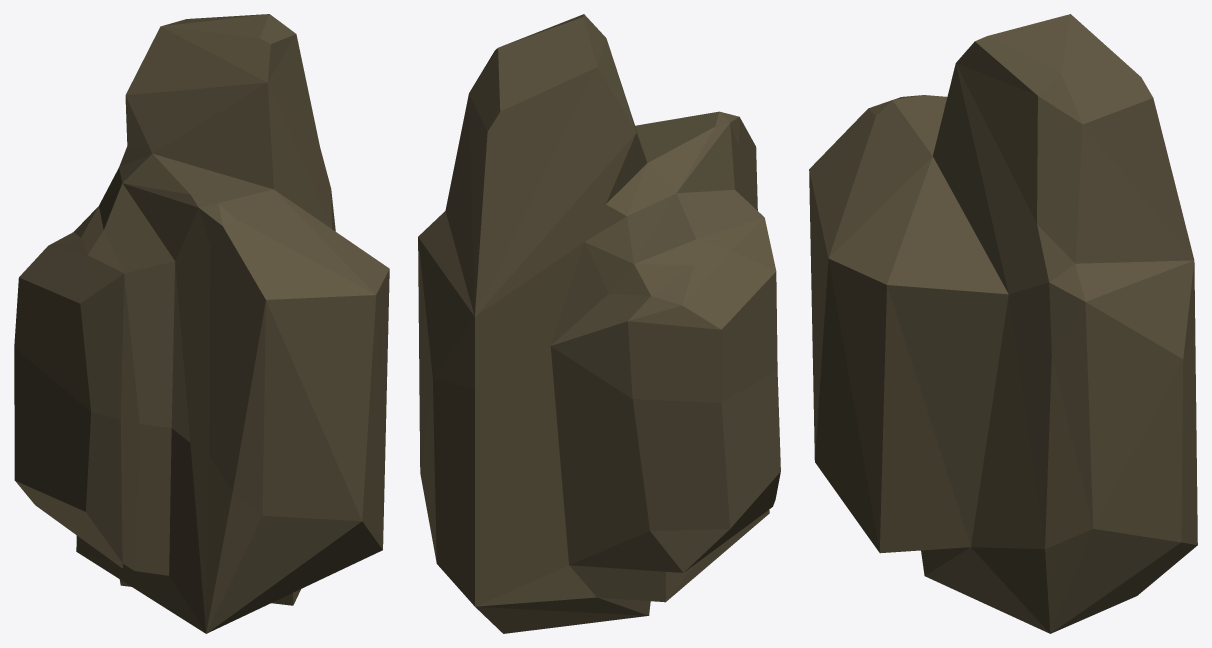
File: rocks.glb
3 views of the same model, side by side, from view 1: azimuth 30°, elevation 25°; view 2: azimuth 150°, elevation 25°; view 3: azimuth 270°, elevation 25° (orthographic).
Visible parts, largest first — view 1: rock3.cave.medium; view 2: rock3.cave.medium; view 3: rock3.cave.medium.
Boxes of the visible parts, bbox=[...] form: rock3.cave.medium: bbox=[14, 14, 389, 633]; rock3.cave.medium: bbox=[418, 14, 780, 633]; rock3.cave.medium: bbox=[809, 14, 1197, 633].
Bounding box in the file's own units: 3.44 × 5.94 × 3.75.
Materials: 1 (1 with a texture image).
